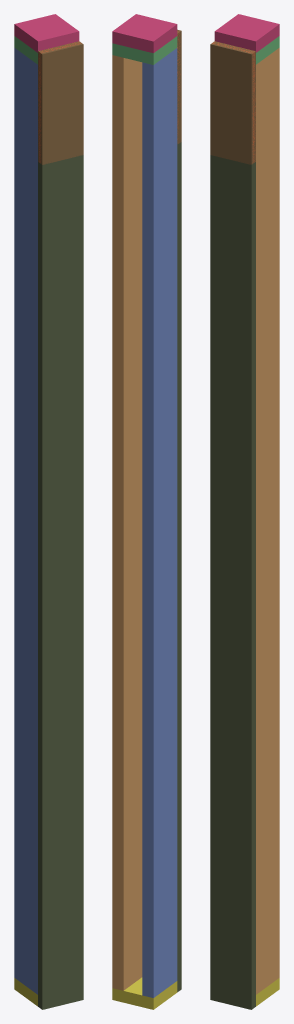
3 views of the same model, side by side, from view 1: azimuth 30°, elevation 25°; view 2: azimuth 150°, elevation 25°; view 3: azimuth 330°, elevation 25° (orthographic).
Parts seen in each view (by area): view 1: world; view 2: world; view 3: world.
Boxes of the visible parts, x1,y1,x2,y2 form: world: (14,14,83,1009); world: (112,14,181,1009); world: (210,14,279,1009).
Size of the model in its own units: 5.5 by 123 by 6.5.
